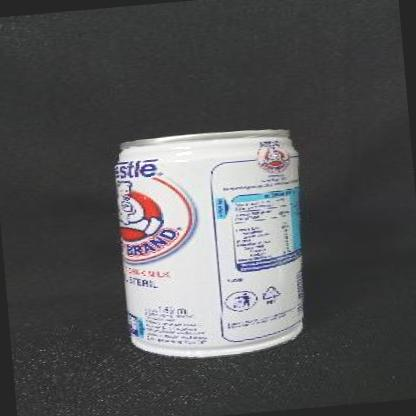alumunium_can: (113, 125, 318, 365)
